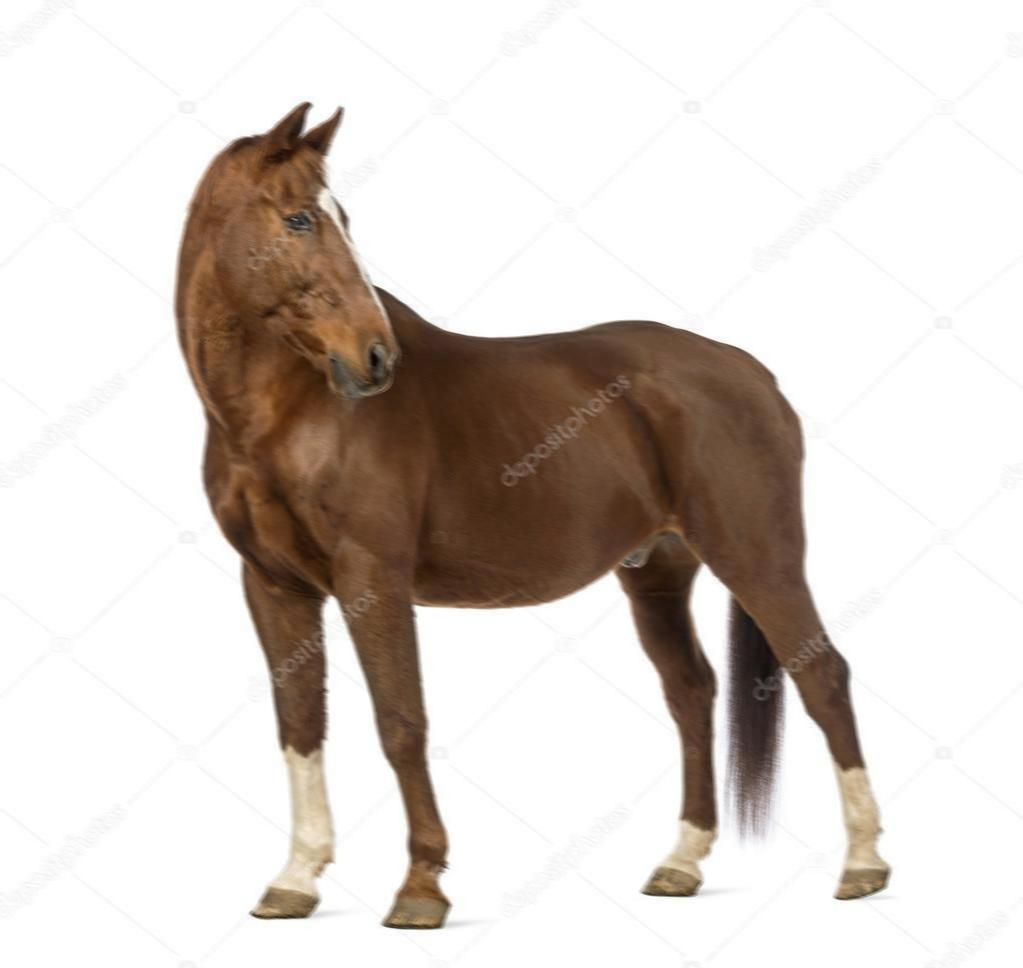horse: (159, 84, 898, 938)
